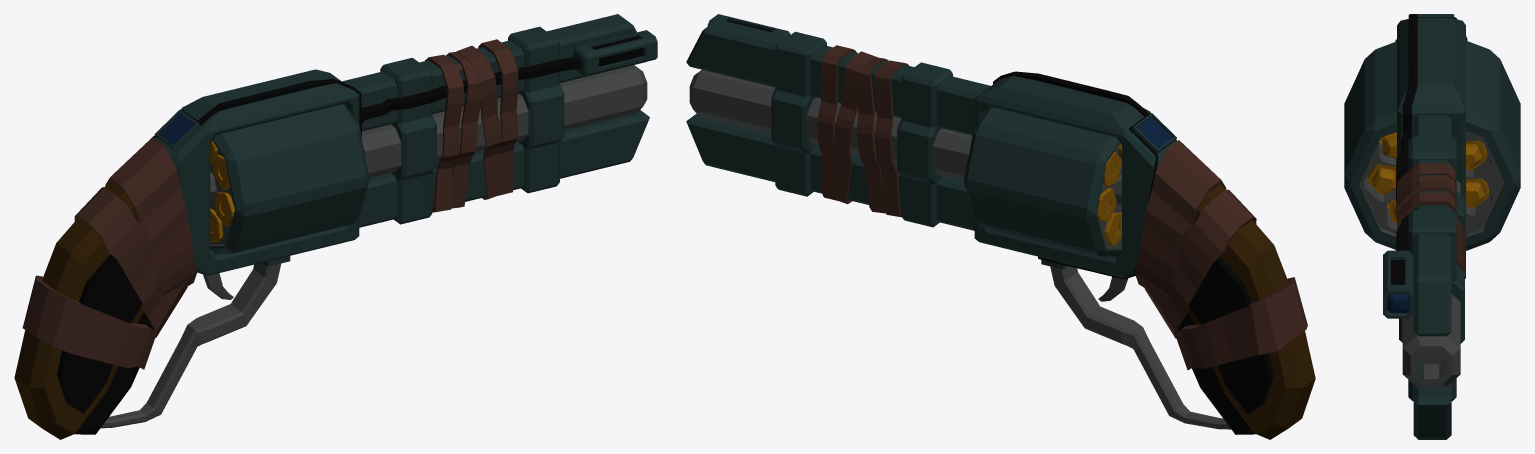
File: revolver.glb
3 views of the same model, side by side, from view 1: azimuth 30°, elevation 25°; view 2: azimuth 150°, elevation 25°; view 3: azimuth 270°, elevation 25° (orthographic). The views are drawn at different scales.
Visible parts, largest first — view 1: gun, mag; view 2: gun, mag; view 3: gun, mag.
Boxes of the visible parts, x1,y1,x2,y2 form: gun: [14, 14, 657, 439]; mag: [210, 104, 369, 253]; gun: [686, 14, 1315, 439]; mag: [963, 107, 1121, 256]; gun: [1383, 14, 1467, 439]; mag: [1344, 40, 1520, 250].
Size of the model in its own units: 29.47 by 13.83 by 6.12.
